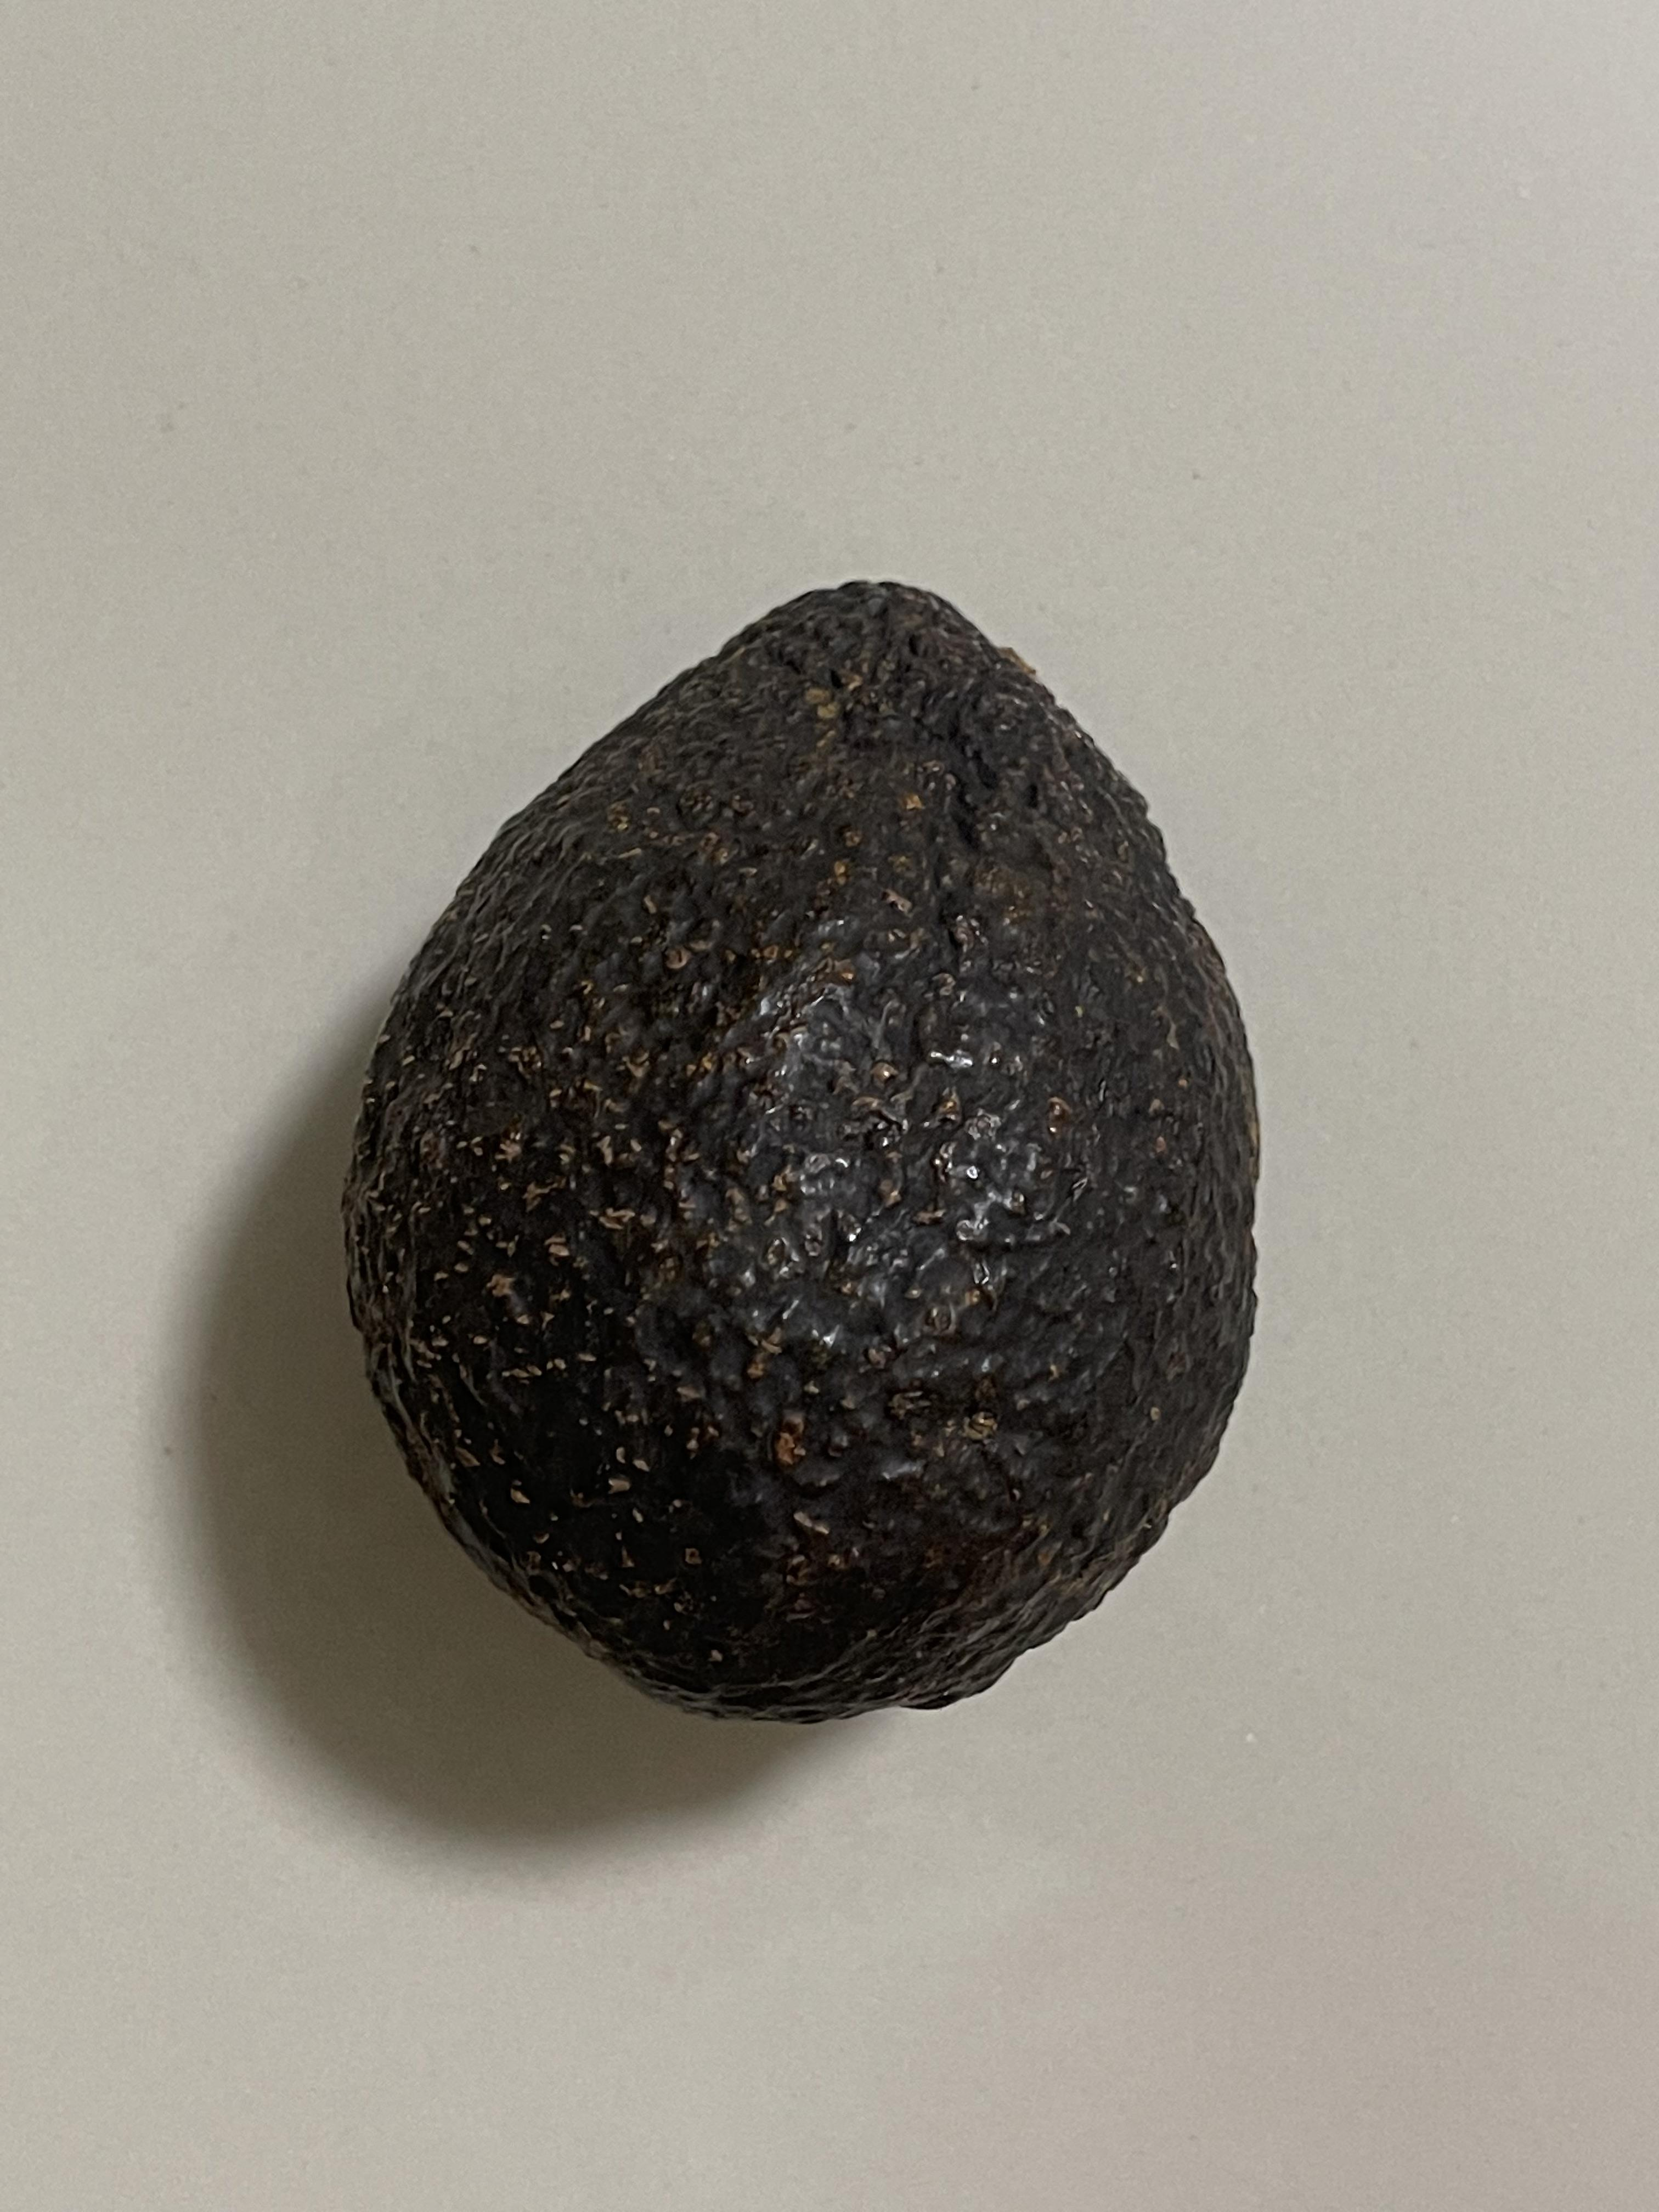Level3: (318, 543, 1286, 1755)
